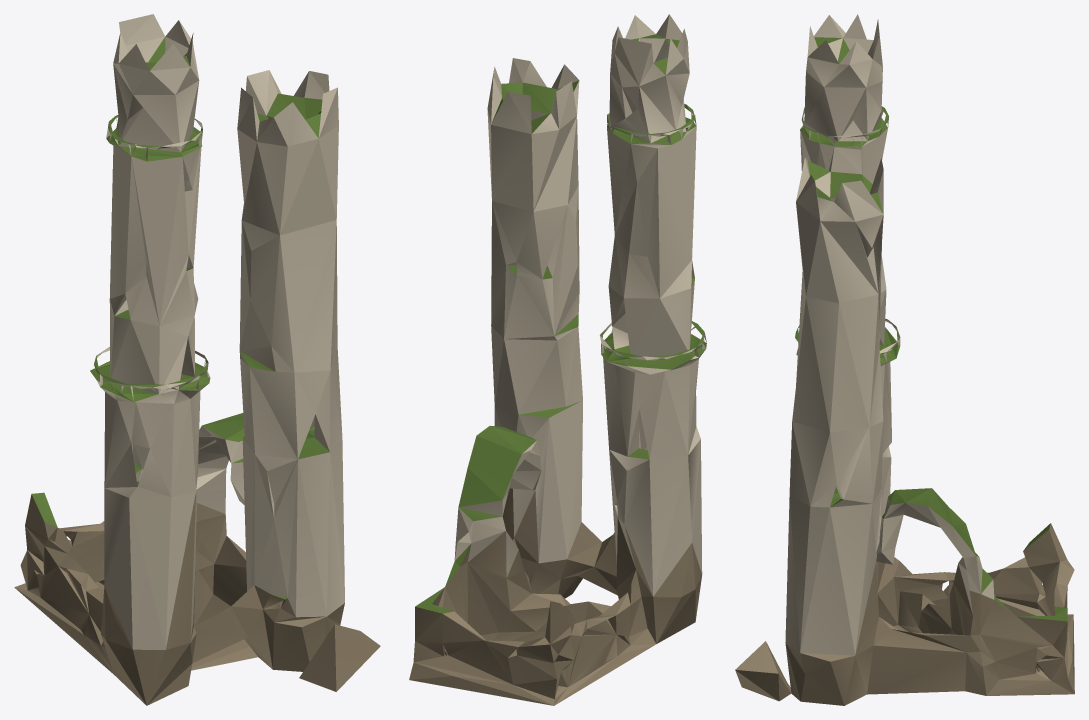
File: ruin-tower.glb
3 views of the same model, side by side, from view 1: azimuth 30°, elevation 25°; view 2: azimuth 150°, elevation 25°; view 3: azimuth 270°, elevation 25° (orthographic). The views are drawn at different scales.
Parts seen in each view (by area): view 1: ruin-tower; view 2: ruin-tower; view 3: ruin-tower.
Boxes of the visible parts, <box> form: ruin-tower: <box>14,14,380,705</box>; ruin-tower: <box>409,14,706,705</box>; ruin-tower: <box>735,14,1074,705</box>.
Size of the model in its own units: 10.93 by 30 by 15.22.
